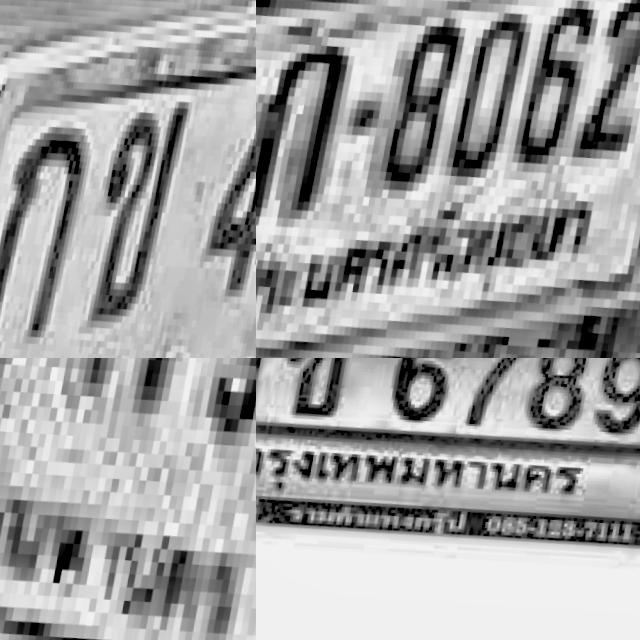license-plate: (256, 0, 640, 358), (0, 0, 256, 358), (256, 358, 640, 588), (0, 358, 256, 640)
